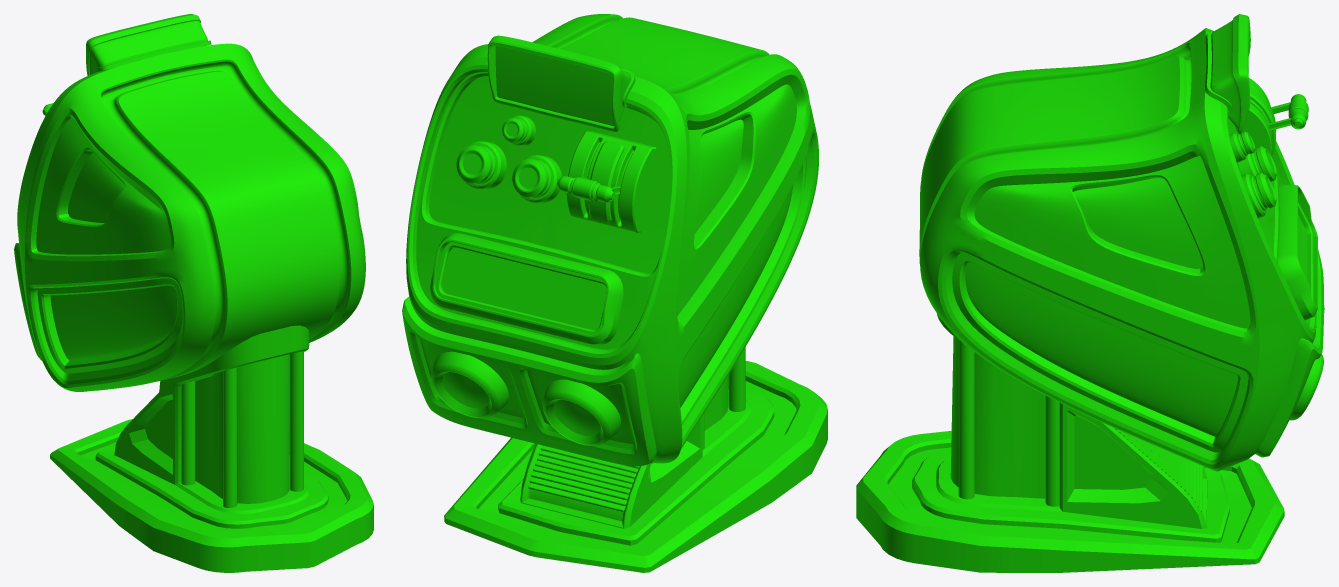
File: Mquina1.fbx
3 renders of one model, left to right at view 1: azimuth 30°, elevation 25°; view 2: azimuth 150°, elevation 25°; view 3: azimuth 270°, elevation 25°, orthographic. The views are drawn at different scales.
Visible parts, largest first — view 1: Maquina1Base; view 2: Maquina1Base, RightButton_Mk1, LeftButton_Mk1, Leaver_MK1; view 3: Maquina1Base, Leaver_MK1, LeftButton_Mk1, RightButton_Mk1.
Boxes of the visible parts, x1=… form: Maquina1Base: x1=14, y1=14, x2=373, y2=572; Maquina1Base: x1=402, y1=14, x2=827, y2=572; RightButton_Mk1: x1=512, y1=159, x2=551, y2=197; LeftButton_Mk1: x1=456, y1=145, x2=495, y2=184; Leaver_MK1: x1=557, y1=176, x2=620, y2=202; Maquina1Base: x1=856, y1=14, x2=1324, y2=572; Leaver_MK1: x1=1268, y1=94, x2=1308, y2=130; LeftButton_Mk1: x1=1250, y1=172, x2=1276, y2=210; RightButton_Mk1: x1=1250, y1=146, x2=1276, y2=181.
Bounding box in the file's own units: 74.08 × 134 × 119.
